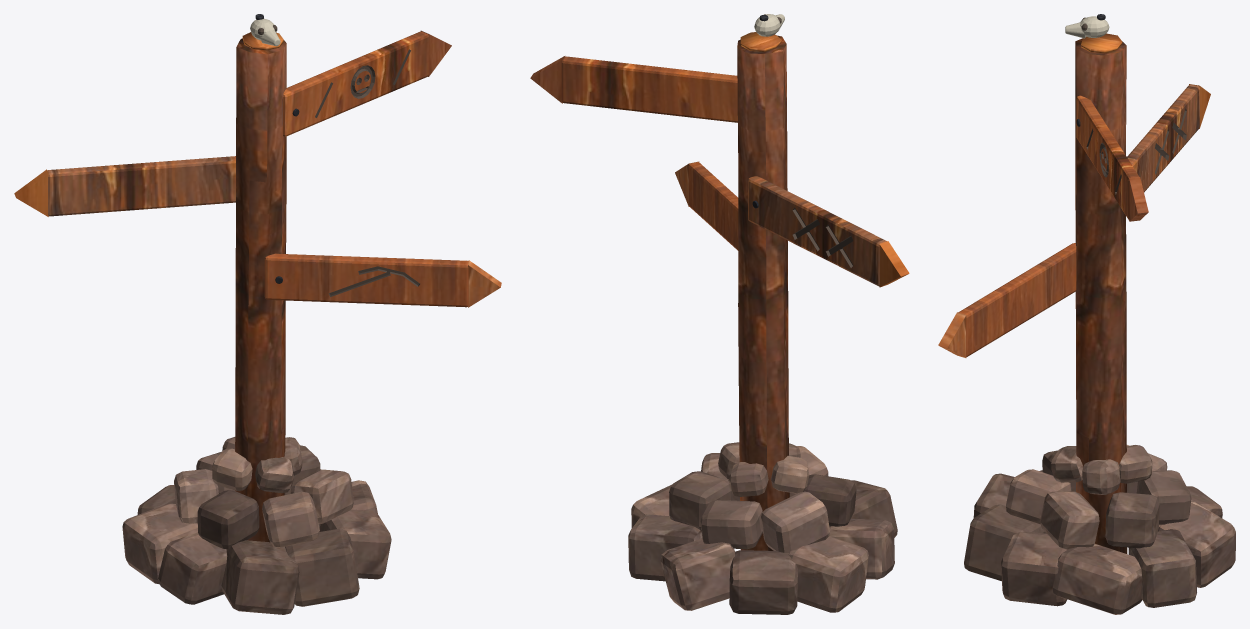
The model's file is op_signpost.glb.
3 renders of one model, left to right at view 1: azimuth 30°, elevation 25°; view 2: azimuth 150°, elevation 25°; view 3: azimuth 270°, elevation 25°, orthographic.
Parts seen in each view (by area): view 1: model; view 2: model; view 3: model.
Boxes of the visible parts, <box> form: model: <box>14,14,501,614</box>; model: <box>530,14,909,614</box>; model: <box>938,14,1235,614</box>.
Bounding box in the file's own units: 1.27 × 1.66 × 0.8091.
14 materials, 12 textured.
